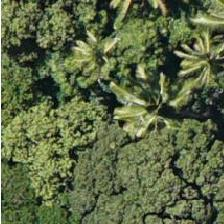coconut_tree: (85, 56, 175, 146), (56, 13, 146, 103), (154, 17, 223, 107)
